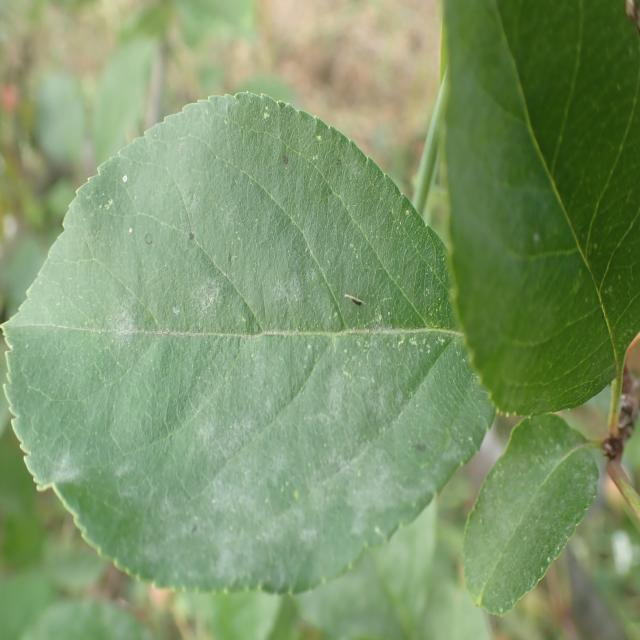Powdery_mildew: (29, 121, 460, 596)
